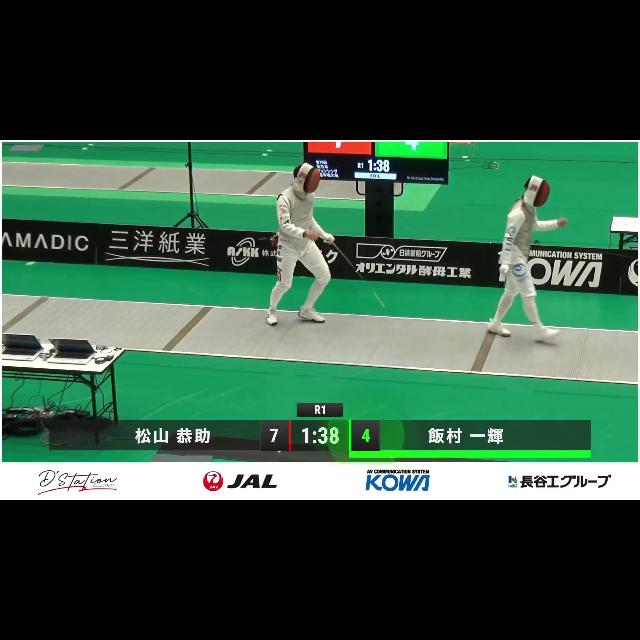blade: (324, 234, 392, 316)
